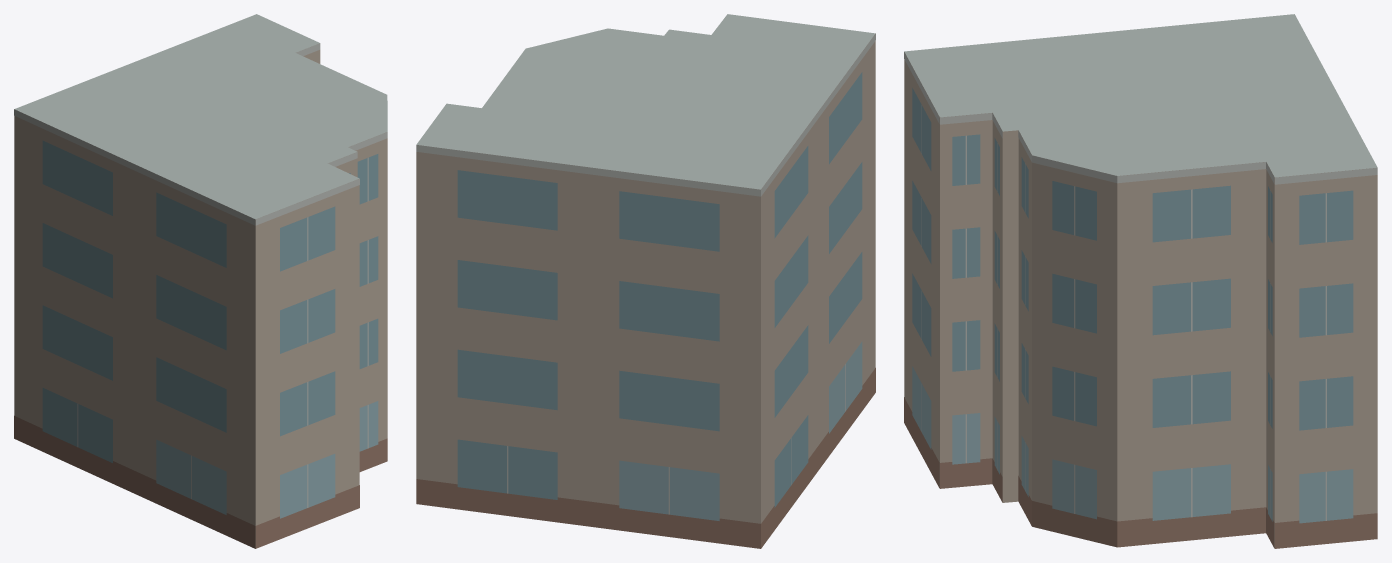
Rendered from survey-upis-32693190.glb.
3 renders of one model, left to right at view 1: azimuth 30°, elevation 25°; view 2: azimuth 150°, elevation 25°; view 3: azimuth 270°, elevation 25°, orthographic. The views are drawn at different scales.
Parts seen in each view (by area): view 1: survey-upis-32693190.tmp; view 2: survey-upis-32693190.tmp; view 3: survey-upis-32693190.tmp.
Boxes of the visible parts, box(x1,y1,x2,y2) form: survey-upis-32693190.tmp: box(14, 14, 387, 548); survey-upis-32693190.tmp: box(416, 14, 875, 548); survey-upis-32693190.tmp: box(904, 14, 1377, 548).
Bounding box in the file's own units: 11.78 × 12.47 × 14.42.
